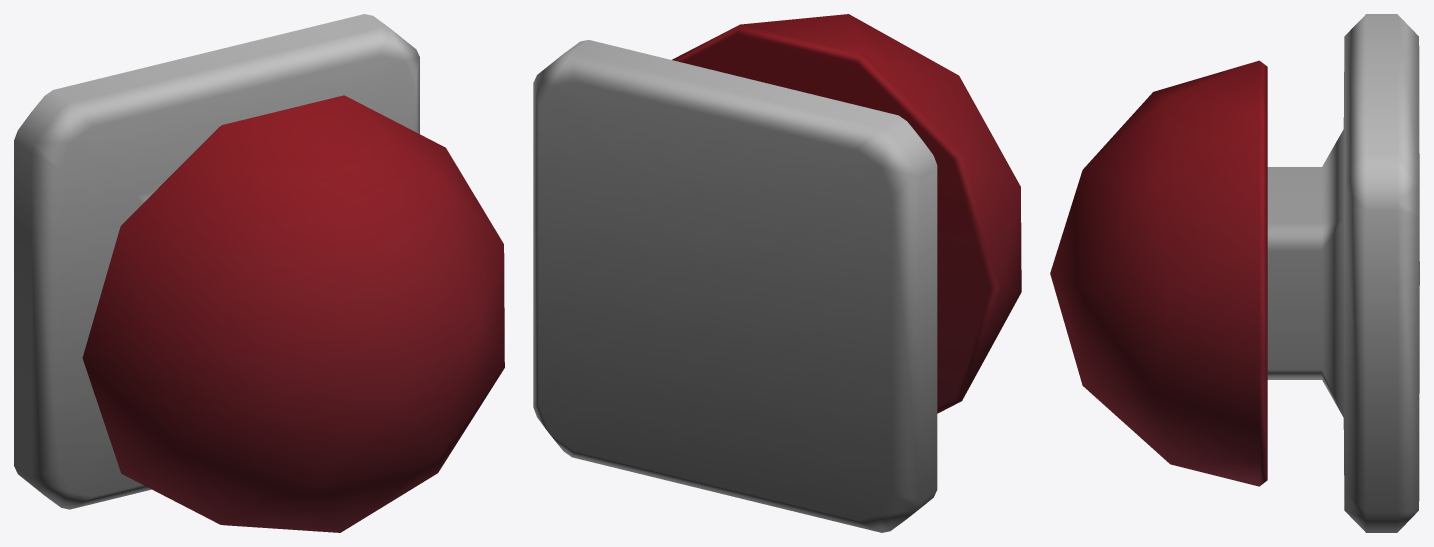
Rendered from SM_Button.fbx.
3 views of the same model, side by side, from view 1: azimuth 30°, elevation 25°; view 2: azimuth 150°, elevation 25°; view 3: azimuth 270°, elevation 25° (orthographic). The views are drawn at different scales.
Parts seen in each view (by area): view 1: Tube_Button_Dome, Tube_Button_Housing; view 2: Tube_Button_Housing, Tube_Button_Dome; view 3: Tube_Button_Dome, Tube_Button_Housing.
Boxes of the visible parts, x1=… form: Tube_Button_Dome: x1=82, y1=95, x2=504, y2=532; Tube_Button_Housing: x1=14, y1=14, x2=419, y2=509; Tube_Button_Housing: x1=533, y1=40, x2=937, y2=532; Tube_Button_Dome: x1=672, y1=14, x2=1021, y2=413; Tube_Button_Dome: x1=1050, y1=60, x2=1267, y2=486; Tube_Button_Housing: x1=1267, y1=14, x2=1419, y2=532.
Bounding box in the file's own units: 98.71 × 95.77 × 85.
